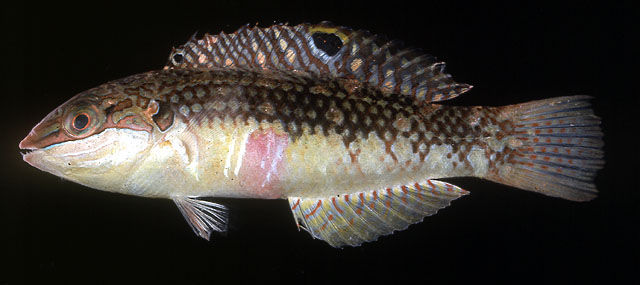fish: (19, 18, 606, 250)
